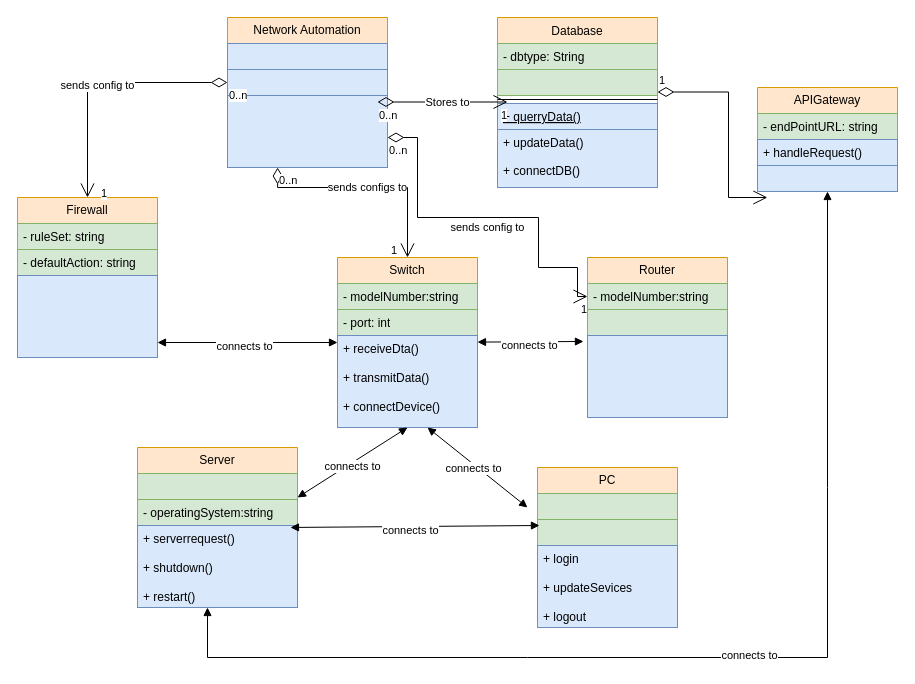
This 915x684 diagram has some shape labels left out. Here are the shapes that lost their labels. From the top down, the centre of each, then its label:
the point at 307,56: + initialize()
the point at 307,82: + executeScript()
the point at 577,82: - connectionType : string
the point at 307,131: + update() +rollBack()
the point at 827,178: + redirectFlow()
the point at 87,316: + filterPackets() + logEvents() + updateRules()
the point at 657,322: -interfaceCount : int
the point at 657,376: + routePackets() +UpdateRoutingTable() + connectRouter()
the point at 217,486: - ipAddress: string
the point at 607,506: - userID:string
the point at 607,532: - previlegeLevel:string
